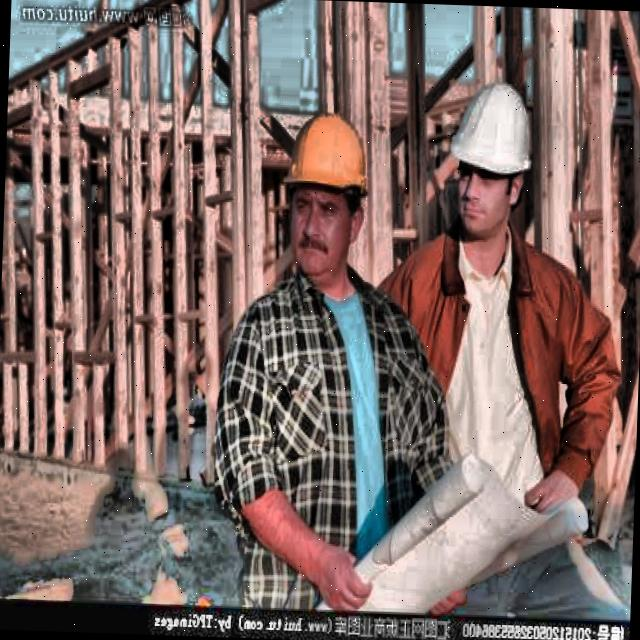helmet: (274, 95, 382, 288), (436, 66, 544, 256)
